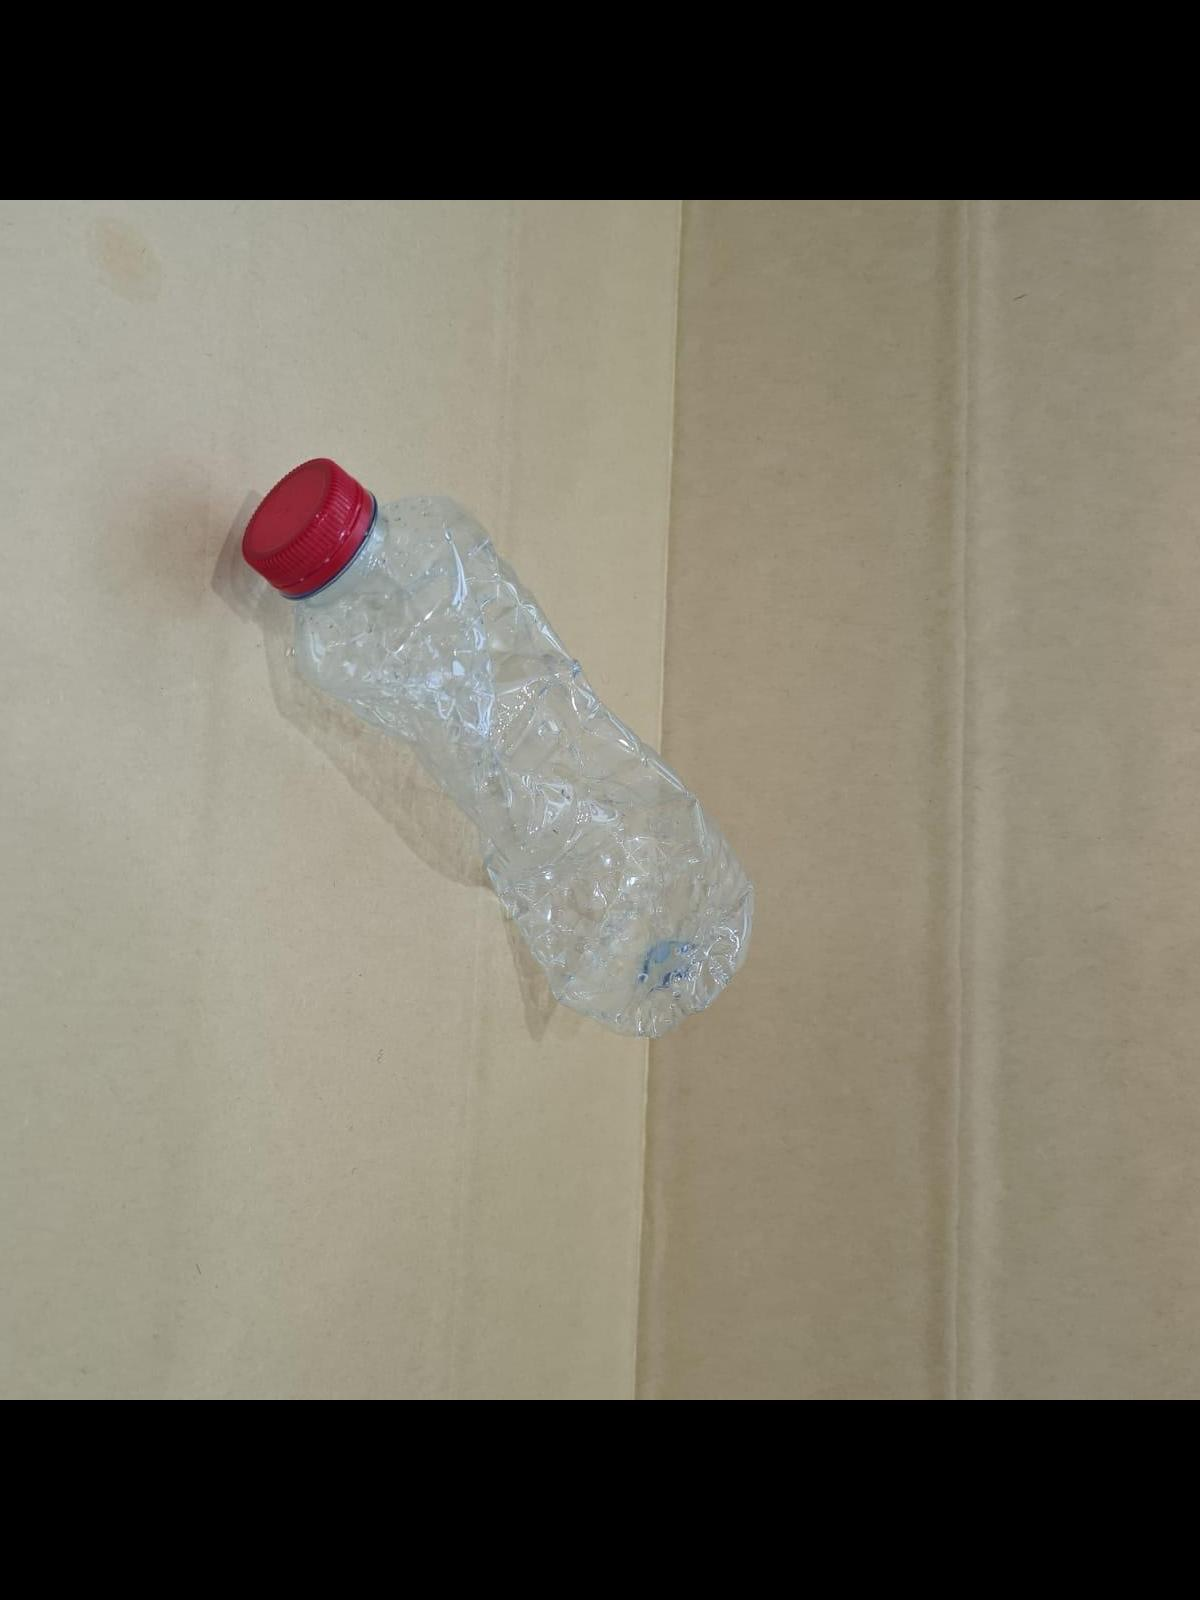bottle: (237, 440, 800, 1061)
